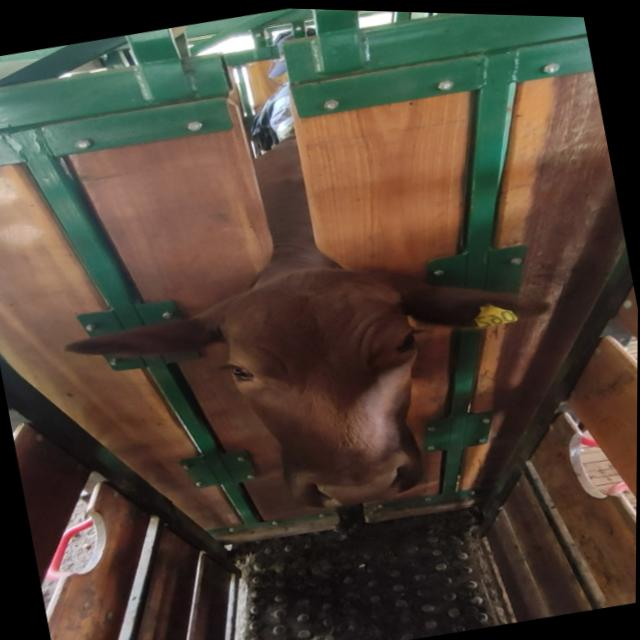cowFace: (207, 251, 447, 528)
